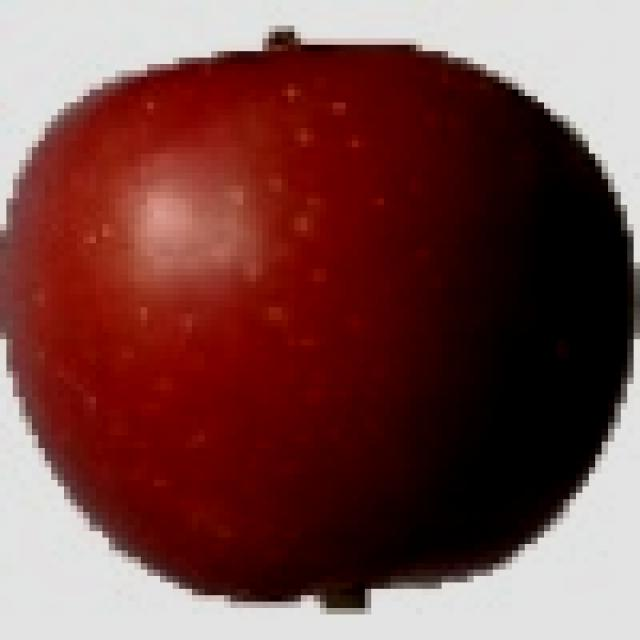apple: (6, 36, 636, 618)
